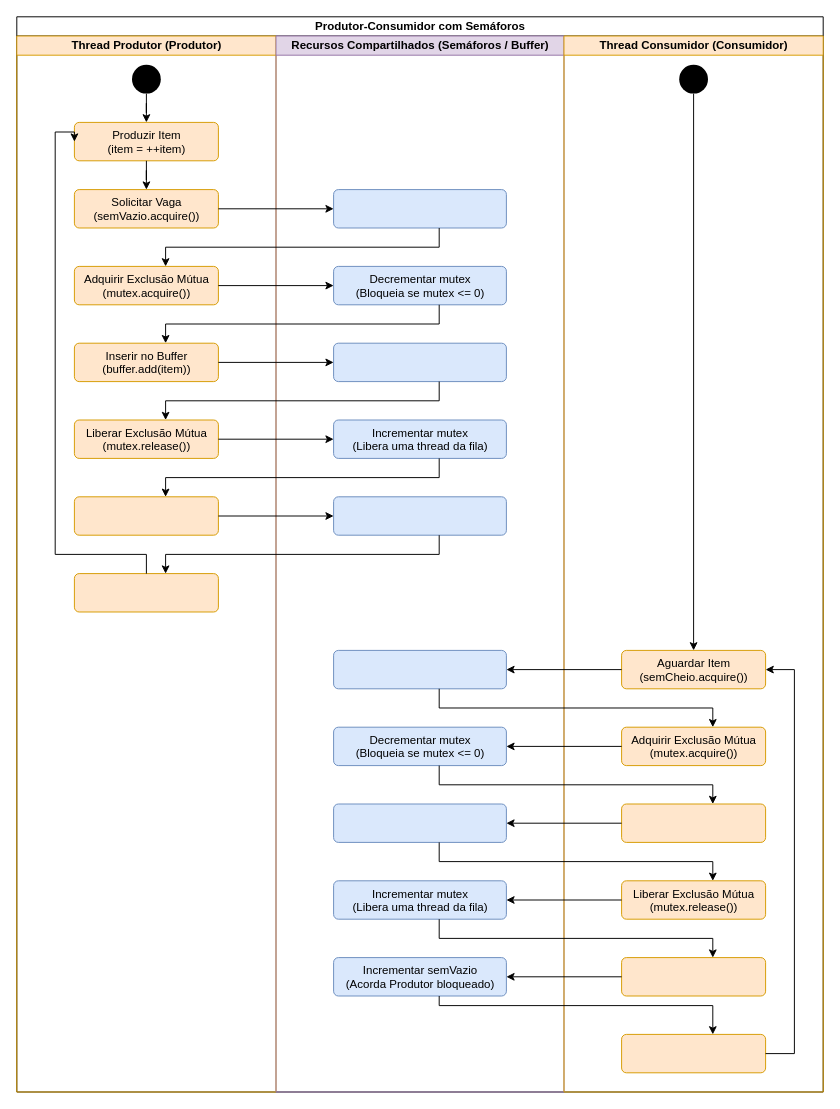
This 840x1109 diagram has some shape labels left out. The centre of each missing label's shape, as x and y in pixels:
"Armazenar no Buffer (Elemento adicionado)" goes at (419,362).
"Consumir Item & Dormir (Thread.sleep(2000))" goes at (693,1053).
"Decrementar semCheio (Bloqueia se semCheio <= 0)" goes at (419,669).
"Decrementar semVazio (Bloqueia se semVazio <= 0)" goes at (419,208).
"Dormir 1000ms (Thread.sleep(1000))" goes at (145,592).
"Incrementar semCheio (Acorda Consumidor bloqueado)" goes at (419,515).
"Remover do Buffer (Elemento retirado)" goes at (419,822).
"Remover do Buffer (item = buffer.poll())" goes at (693,822).
"Sinalizar Novo Item (semCheio.release())" goes at (145,515).
"Sinalizar Vaga Liberada (semVazio.release())" goes at (693,976).
